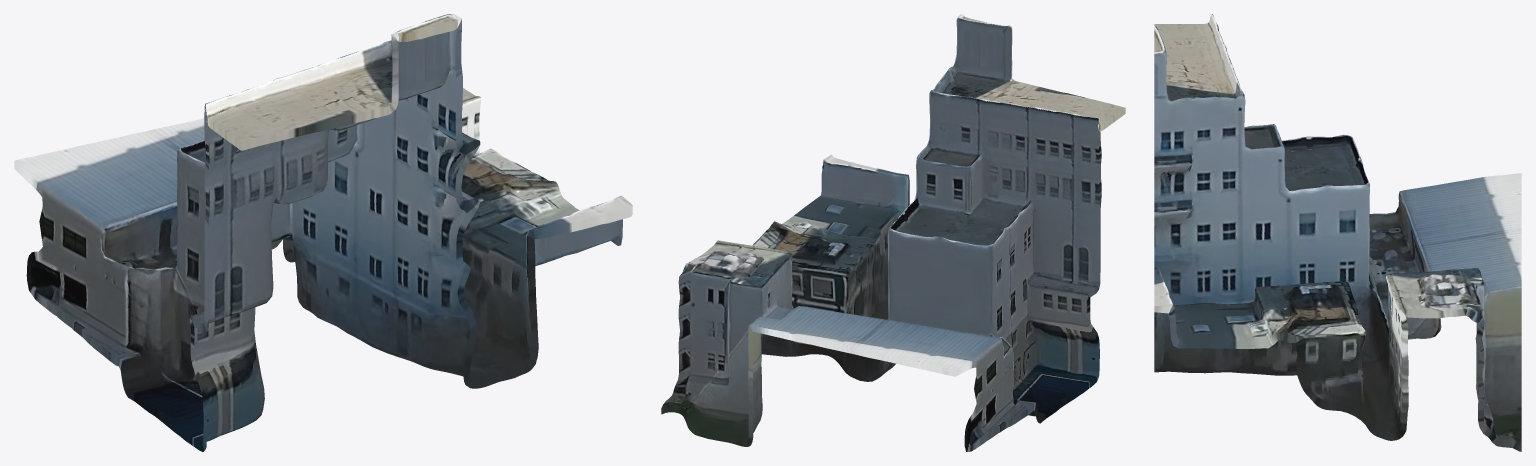
Rendered from z20-167741-405197-h0-yup-uvflip-v3-world.glb.
3 renders of one model, left to right at view 1: azimuth 30°, elevation 25°; view 2: azimuth 150°, elevation 25°; view 3: azimuth 270°, elevation 25°, orthographic. The views are drawn at different scales.
Size of the model in its own units: 30.16 by 31.48 by 30.32.
1 material, 1 textured.
